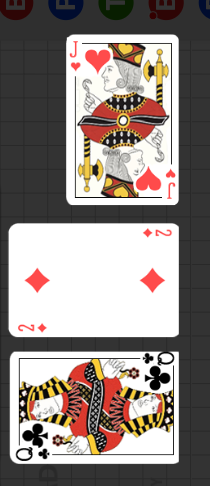2D: (17, 321, 49, 334), (141, 227, 174, 239)
JH: (68, 40, 83, 73)
QC: (132, 353, 179, 397), (12, 420, 58, 464)
